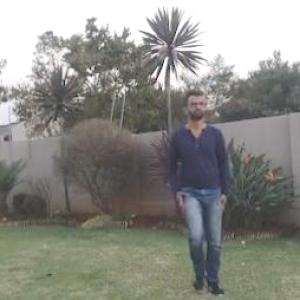follow: (162, 77, 240, 299)
